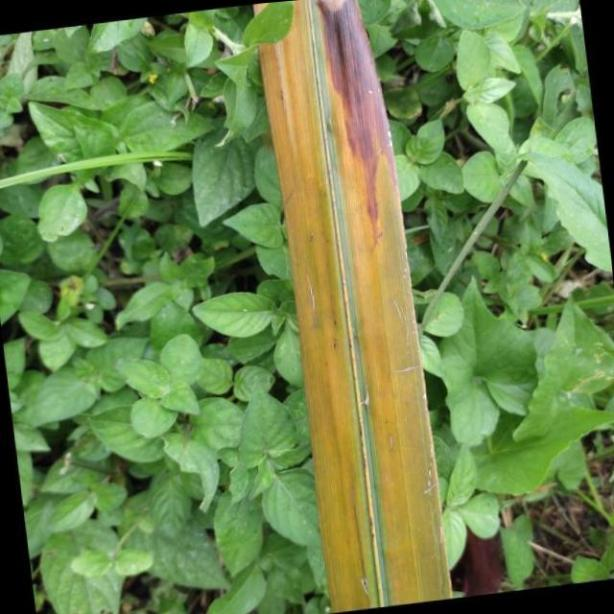Megnesium: (264, 0, 451, 614)
